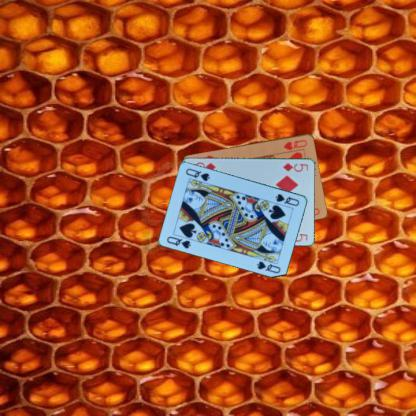5d: (281, 160, 309, 172)
Qh: (281, 137, 308, 151)
Qs: (165, 233, 192, 250), (274, 192, 300, 208)
